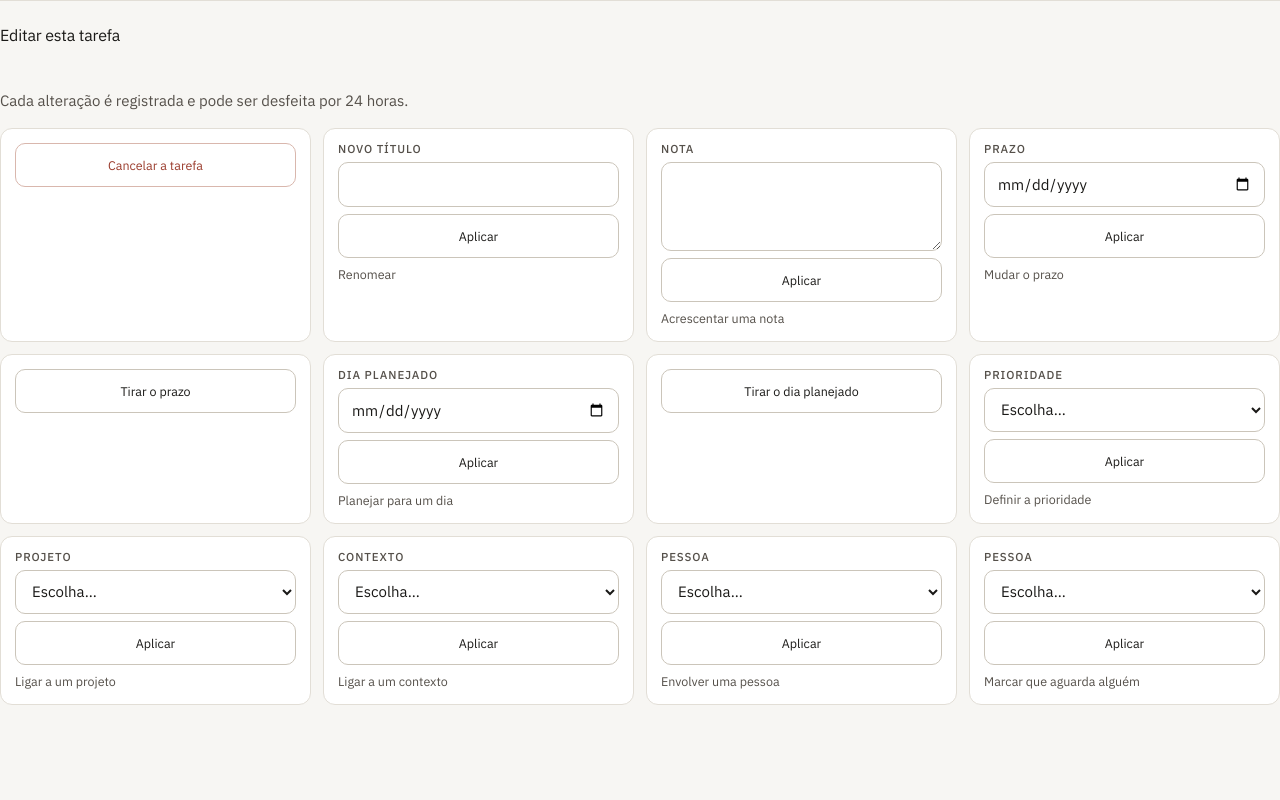
Test case: 2E-DESTRUCTIVE-003 — the dialog opens only after confirmation was issued › closes the dialog and shows the outcome once the cancellation is applied
Click the button "Cancelar a tarefa".
click(156, 165)  # box top-left (15, 143), bottom-right (296, 187)
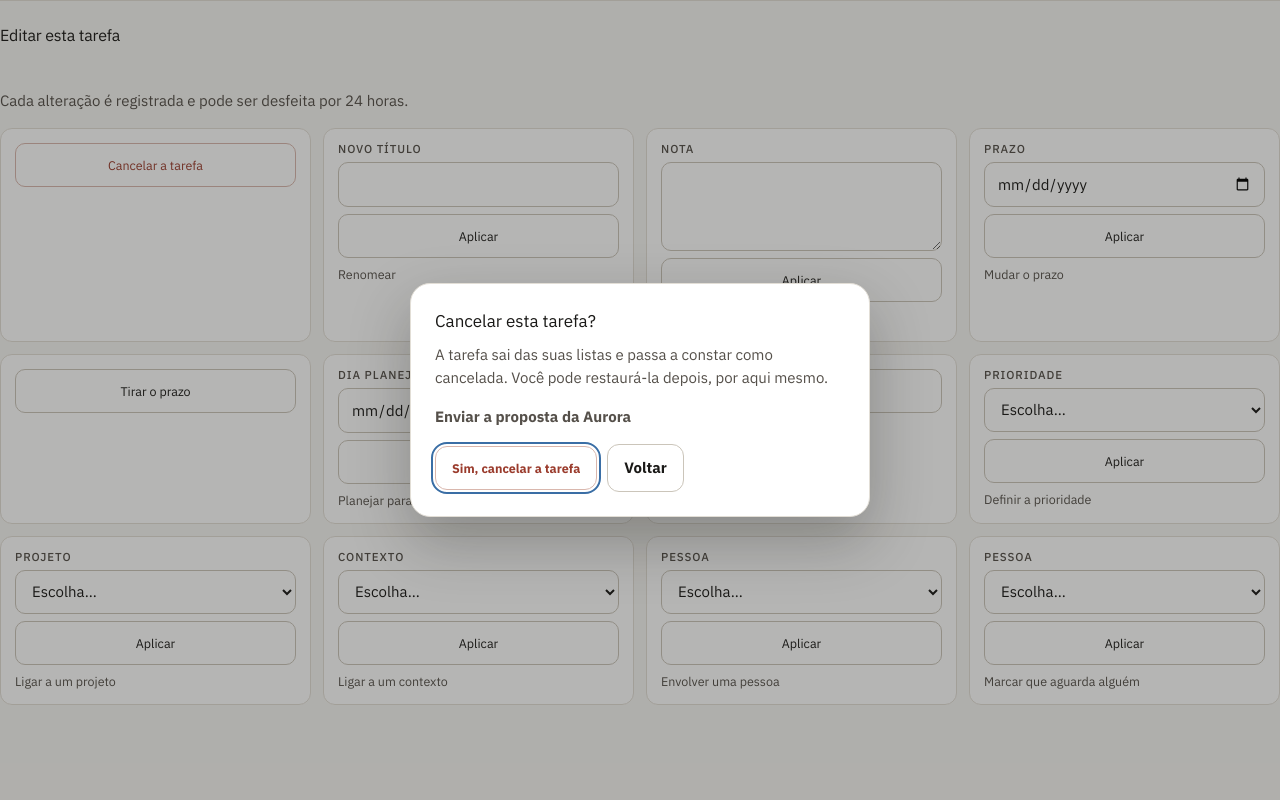
Click the button "Sim, cancelar a tarefa".
click(516, 468)  # box top-left (435, 446), bottom-right (597, 490)
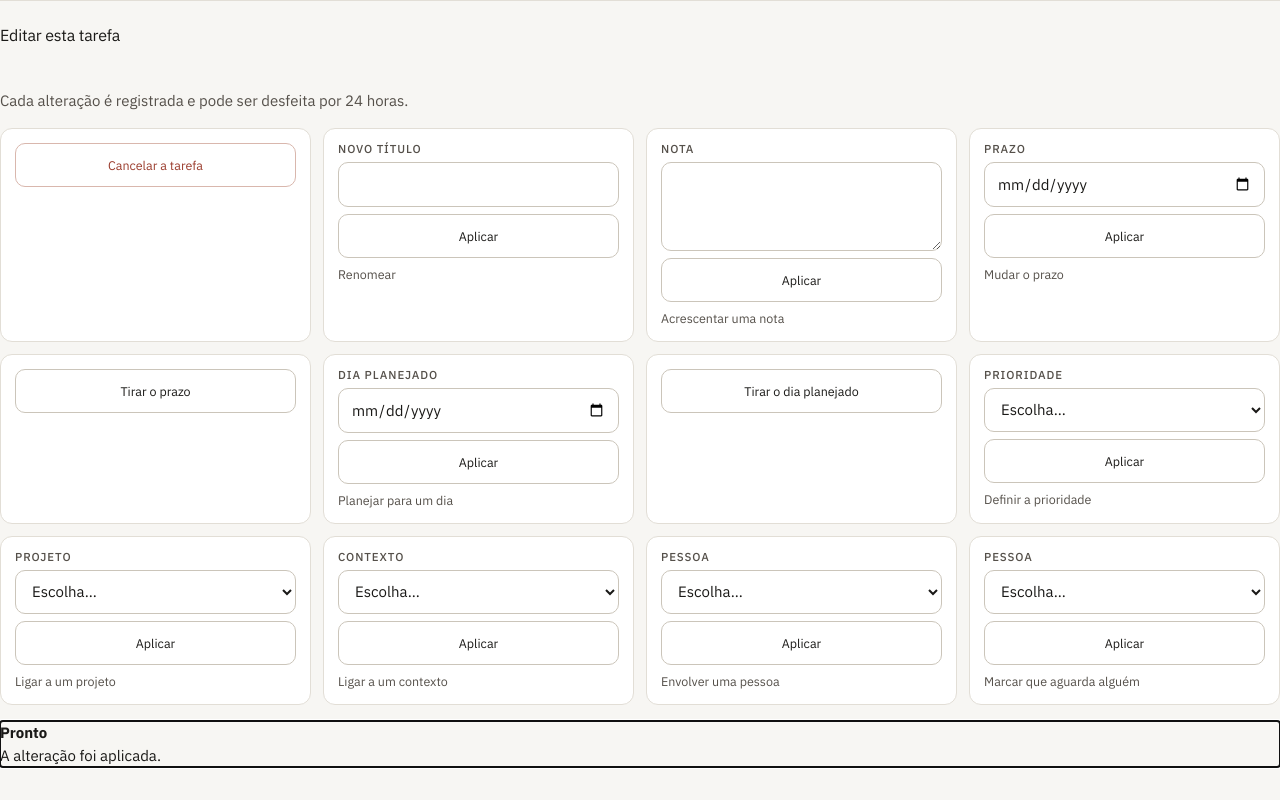
Expected: the dialog is gone
Expected: the element named "Resultado da alteração" is shown, top-left (0, 723), bottom-right (161, 765)
